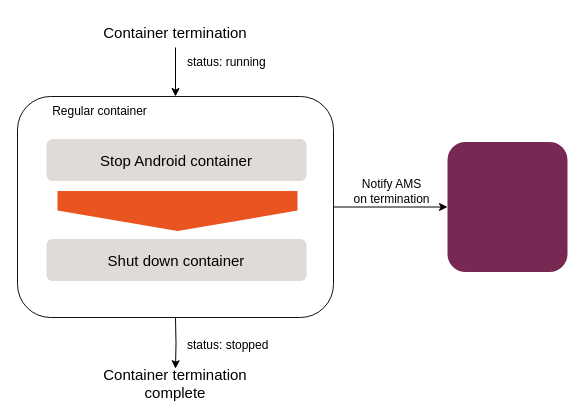
Some shapes in this 585 by 419 pixel diagram are drawn without their labels. The box of each missing label's shape, as (x1, y1, x2, y2) in pixels:
AMS: (447, 142, 567, 272)
post-stop: (57, 190, 297, 230)
